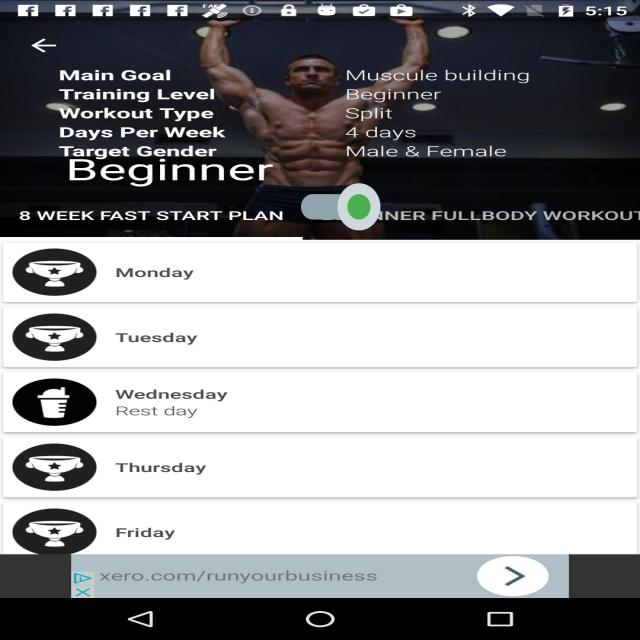social proof: (301, 164, 380, 250)
